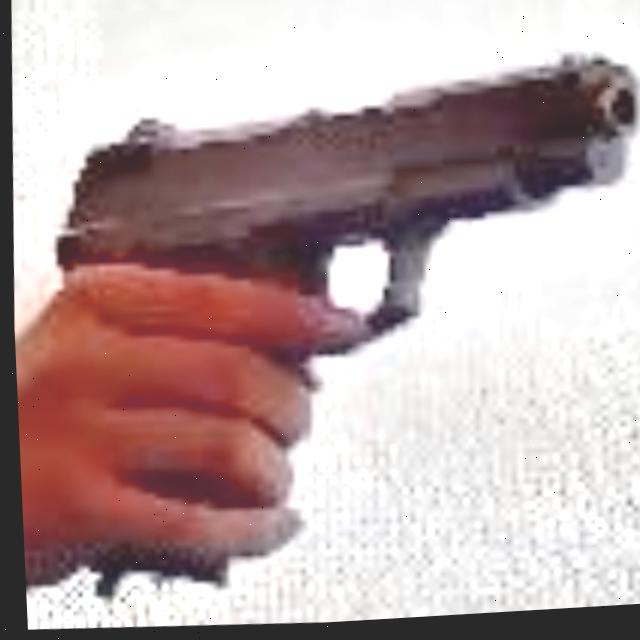pistol: (2, 19, 640, 632), (12, 60, 639, 598)
